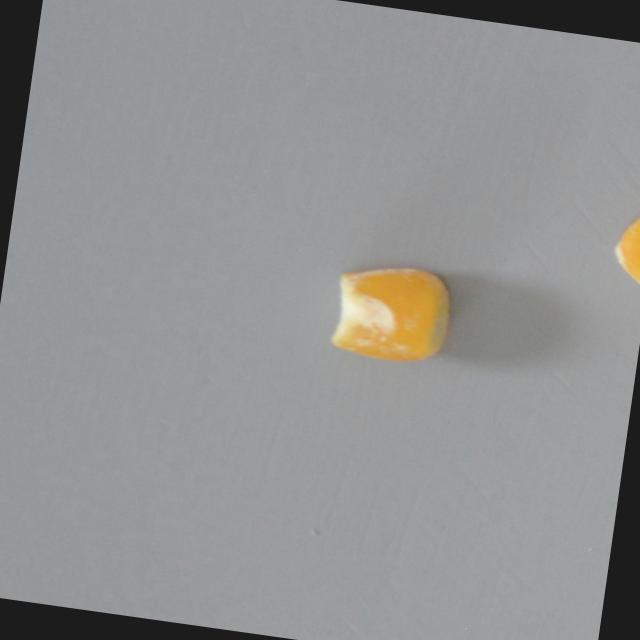no_canjicado: (610, 196, 640, 297)
pelicula: (328, 259, 454, 367)
